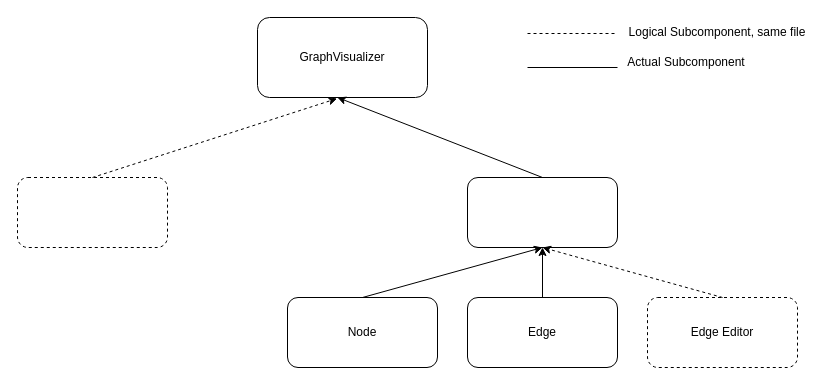
Image size: 825x385. Some labels were removed from this diagram. Each missing label, with the centre of its shape:
"Graph" belongs at point 542,212.
"Toolbar" belongs at point 92,212.
